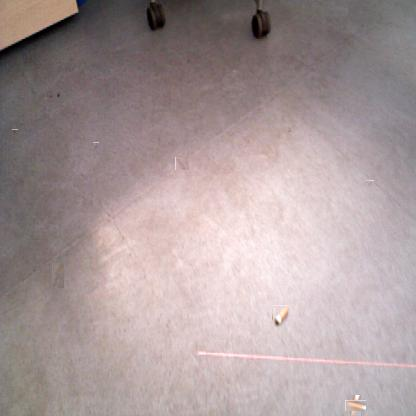dirty: (272, 305, 288, 326), (348, 398, 363, 414)
mark: (52, 264, 64, 290), (175, 157, 189, 170), (93, 142, 99, 151), (367, 180, 374, 187), (12, 129, 18, 136), (54, 92, 61, 98), (47, 92, 53, 98), (287, 127, 293, 133)
